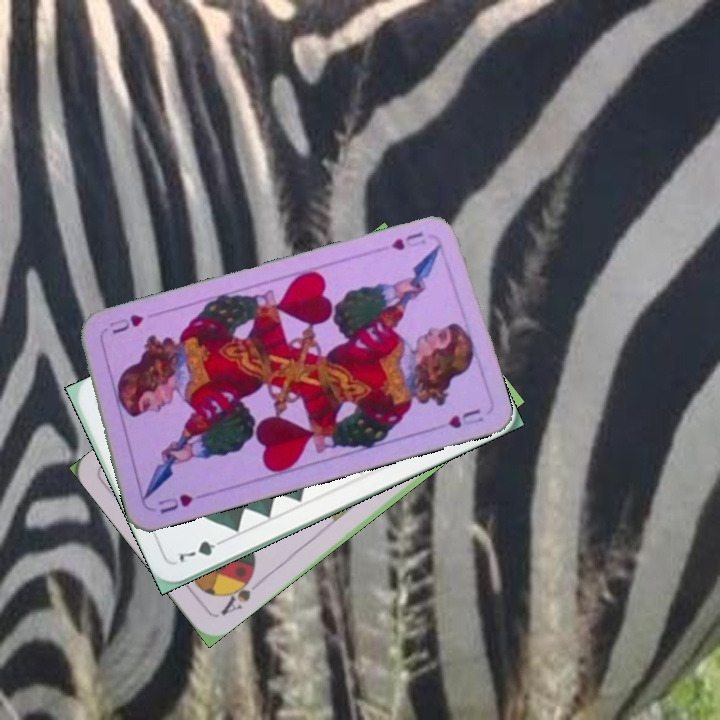G7: (175, 534, 229, 566)
HU: (154, 490, 196, 517), (387, 227, 429, 253)
SA: (216, 569, 257, 618)
